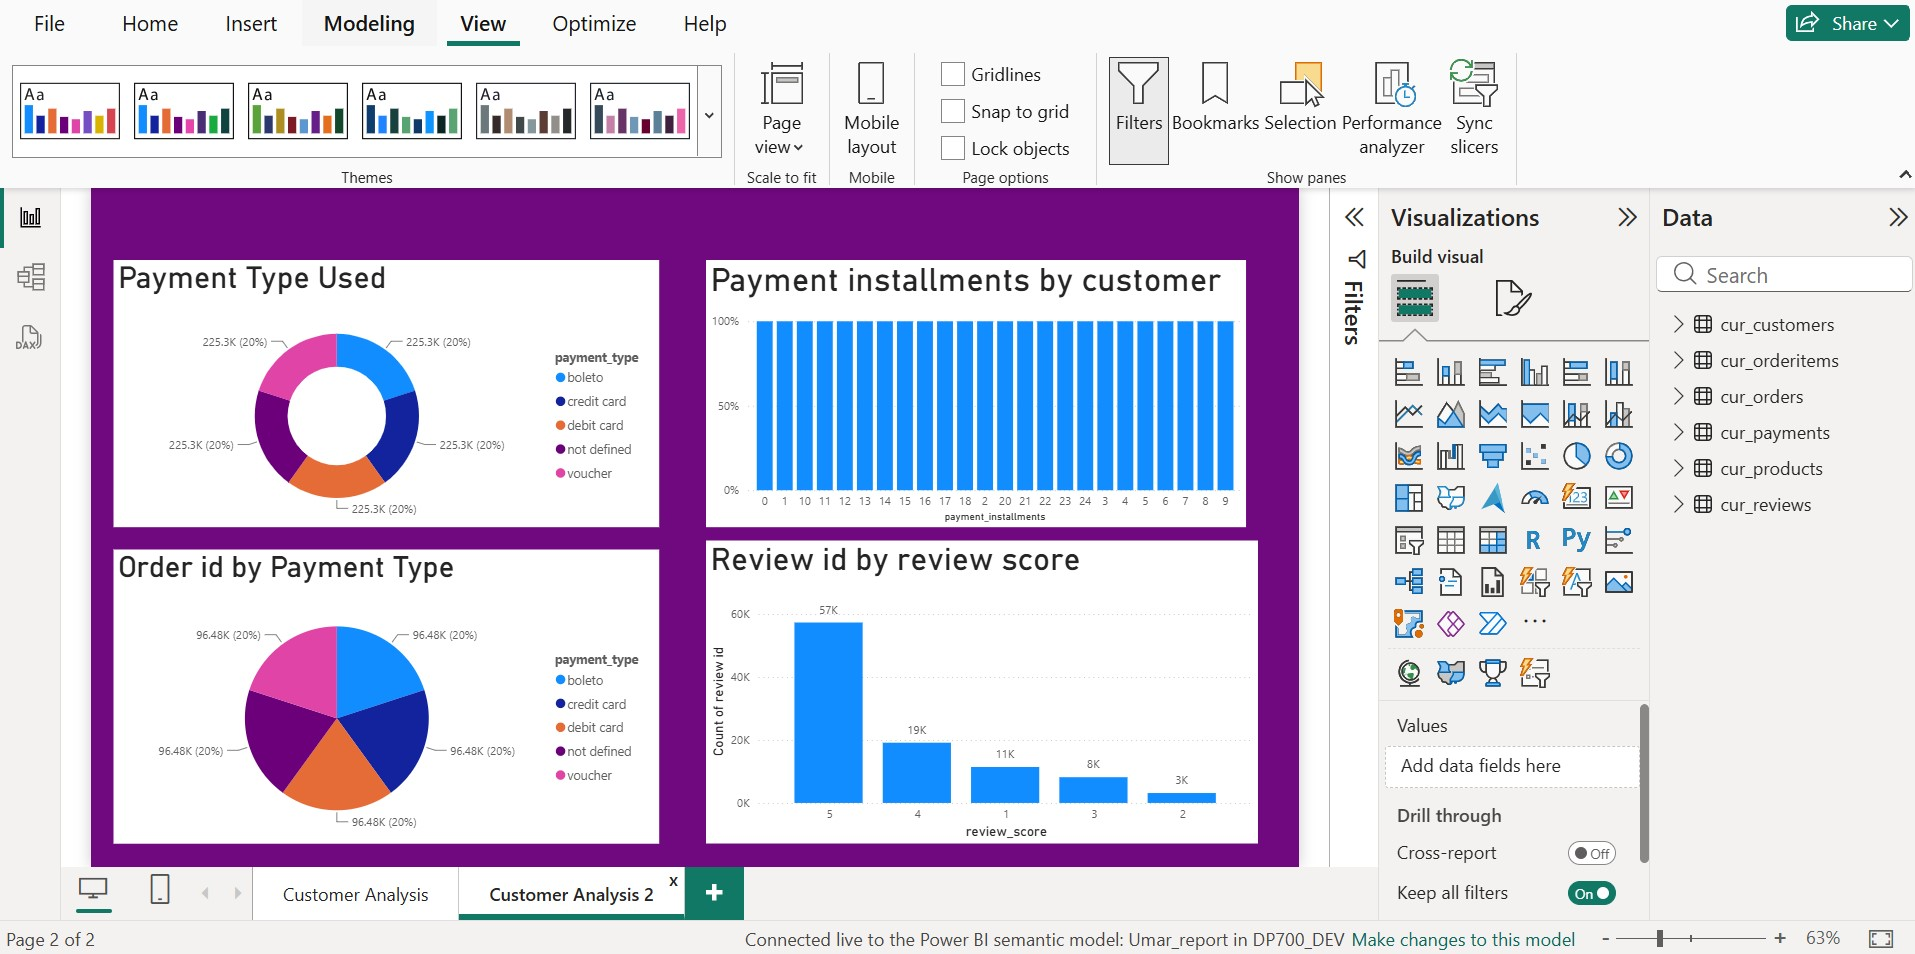

What the dashboard file says about the page in this screenshot:
{"tool":"powerbi","page":{"name":"Customer Analysis 2","canvas":[1280,720],"ordinal":1},"visuals":[{"type":"donutChart","title":"Payment Type Used","fields":{"Category":["cur_payments.payment_type"],"Y":["CountNonNull(cur_orderitems.order_id)"]},"box":[23.9,76.3,579,283.1],"z":0},{"type":"pieChart","title":"Order id by Payment Type","fields":{"Category":["cur_payments.payment_type"],"Y":["CountNonNull(cur_orders.order_id)"]},"box":[23.9,383.3,579,311.8],"z":1000},{"type":"hundredPercentStackedColumnChart","title":"Payment installments by customer","fields":{"Category":["cur_payments.payment_installments"],"Y":["CountNonNull(cur_orderitems.order_id)"]},"box":[652.2,76.3,572.6,283.1],"z":2000},{"type":"columnChart","title":"Review id by review score","fields":{"Category":["cur_reviews.review_score"],"Y":["CountNonNull(cur_reviews.review_id)"]},"box":[652.2,373.8,585.3,321.3],"z":3000}]}

Visuals, with their boxes on the page's 1280x720 design canvas (x1, y1, x2, y2). These are canvas units, not pixel positions in the 1915x954 screenshot, which may show the page scaled, cropped or inside an application window:
"Payment Type Used" donutChart: 24 76 603 359
"Order id by Payment Type" pieChart: 24 383 603 695
"Payment installments by customer" hundredPercentStackedColumnChart: 652 76 1225 359
"Review id by review score" columnChart: 652 374 1238 695
